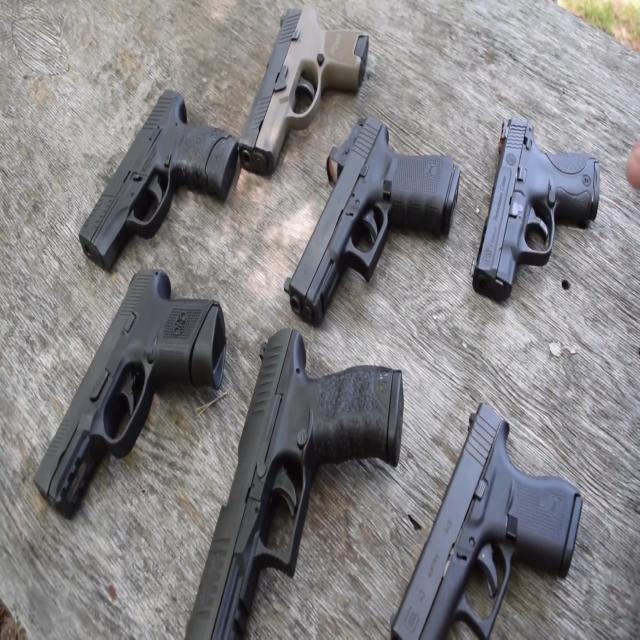handgun: (174, 325, 416, 614), (26, 257, 260, 534), (368, 395, 608, 639), (439, 85, 621, 323), (273, 122, 481, 330), (86, 74, 237, 306), (226, 0, 380, 176)
